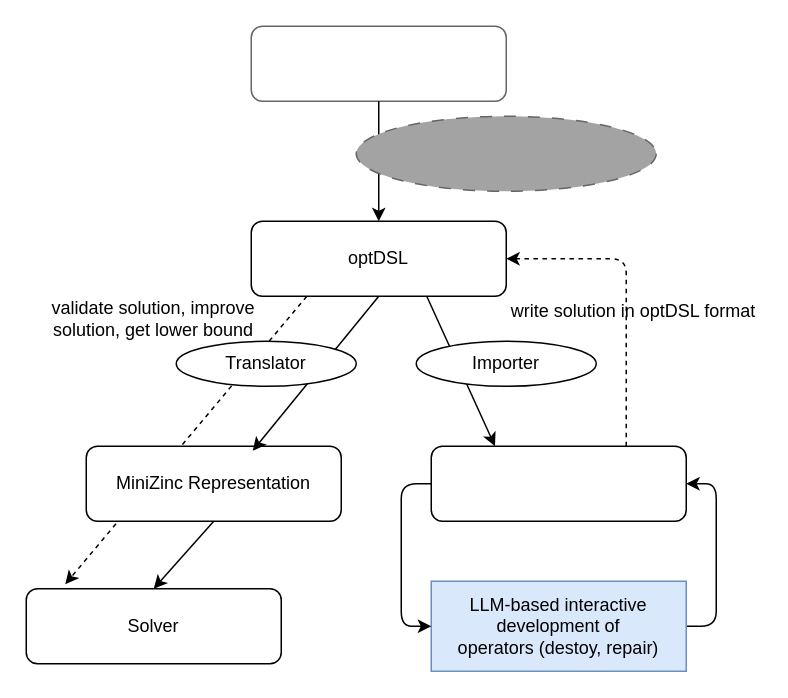
Image size: 788x698. Some labels were removed from this diagram. Each missing label, with the box of its shape:
Large Neighborhood Search (Metaheuristic): (430, 445, 686, 521)
LLM-based translation and feedback loop: (355, 115, 656, 191)
Problem formulation in prosa by domain expert: (250, 25, 506, 101)
